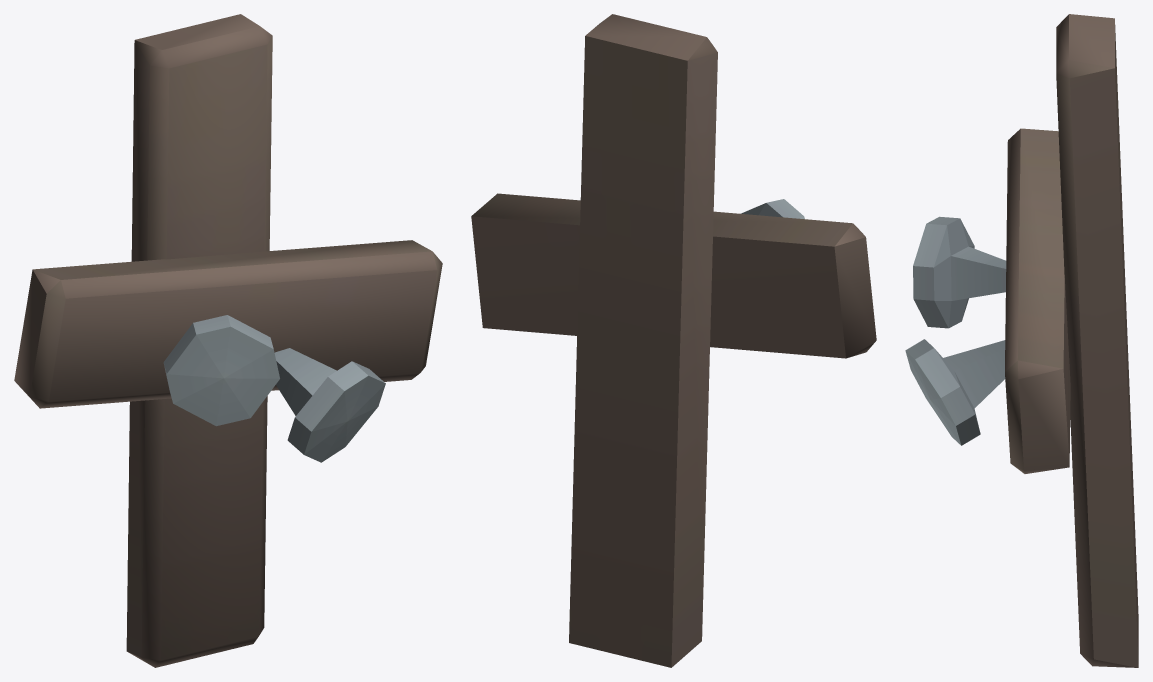
Rendered from gravemarker-b.glb.
The picture shows the model from 3 angles, left to right: view 1: azimuth 30°, elevation 25°; view 2: azimuth 150°, elevation 25°; view 3: azimuth 270°, elevation 25°; orthographic projection. The views are drawn at different scales.
Parts seen in each view (by area): view 1: gravemarker_B; view 2: gravemarker_B; view 3: gravemarker_B.
Boxes of the visible parts, x1,y1,x2,y2 form: gravemarker_B: (14,14,442,667); gravemarker_B: (471,14,876,667); gravemarker_B: (905,14,1138,667).
Size of the model in its own units: 0.8028 by 1.18 by 0.4131.
1 material, 1 textured.
